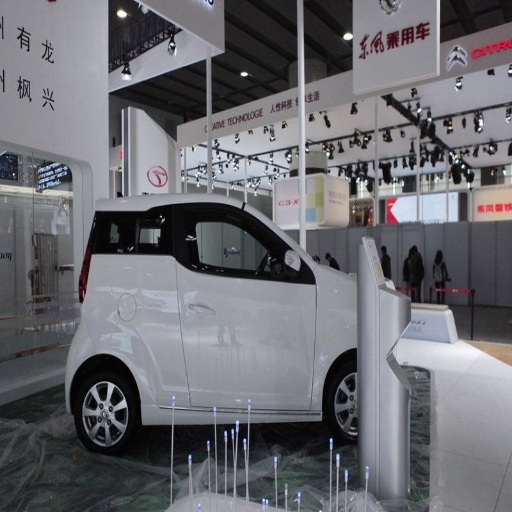back_right_door: (177, 208, 218, 307)
trunk: (99, 261, 229, 407)
